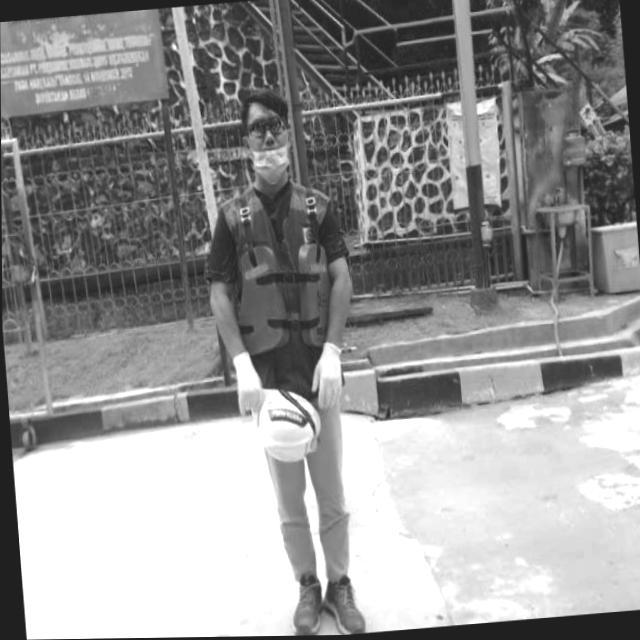goggles_on: (242, 113, 296, 142)
